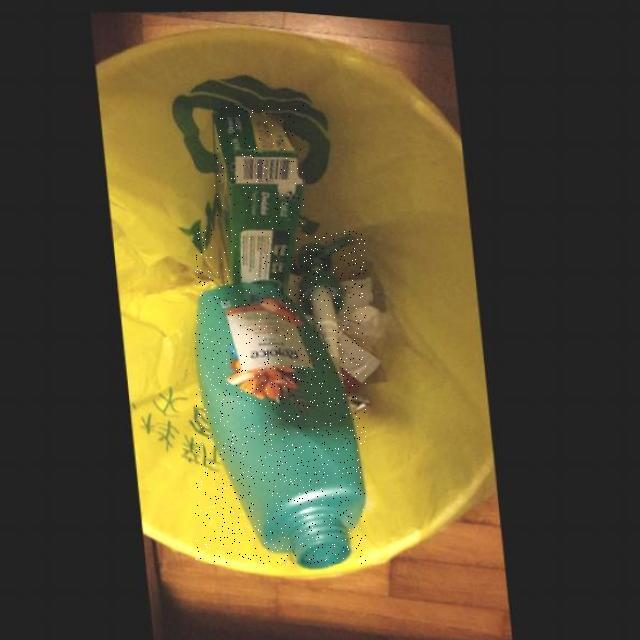paper: (214, 104, 304, 287)
plastic: (195, 229, 366, 564)
